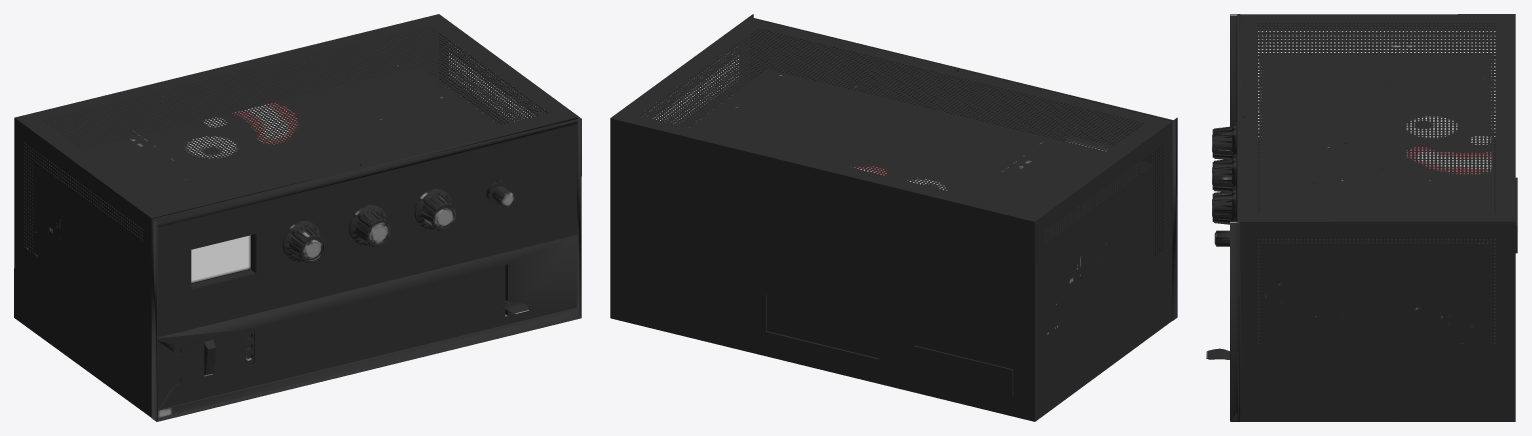
The model's file is Radio.fbx.
The picture shows the model from 3 angles, left to right: view 1: azimuth 30°, elevation 25°; view 2: azimuth 150°, elevation 25°; view 3: azimuth 270°, elevation 25°; orthographic projection.
Visible parts, largest first — view 1: SM_KorpP.003; view 2: SM_KorpP.003; view 3: SM_KorpP.003.
Boxes of the visible parts, bbox=[...] form: SM_KorpP.003: bbox=[14, 14, 581, 421]; SM_KorpP.003: bbox=[610, 14, 1177, 421]; SM_KorpP.003: bbox=[1206, 14, 1517, 421].
Bounding box in the file's own units: 19.99 × 9.04 × 12.66.
